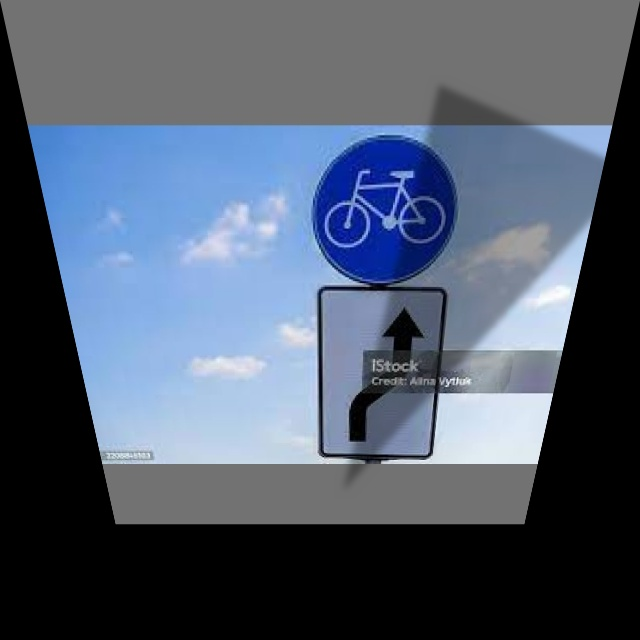Compulsory_Cycle_Track: (311, 137, 468, 282)
